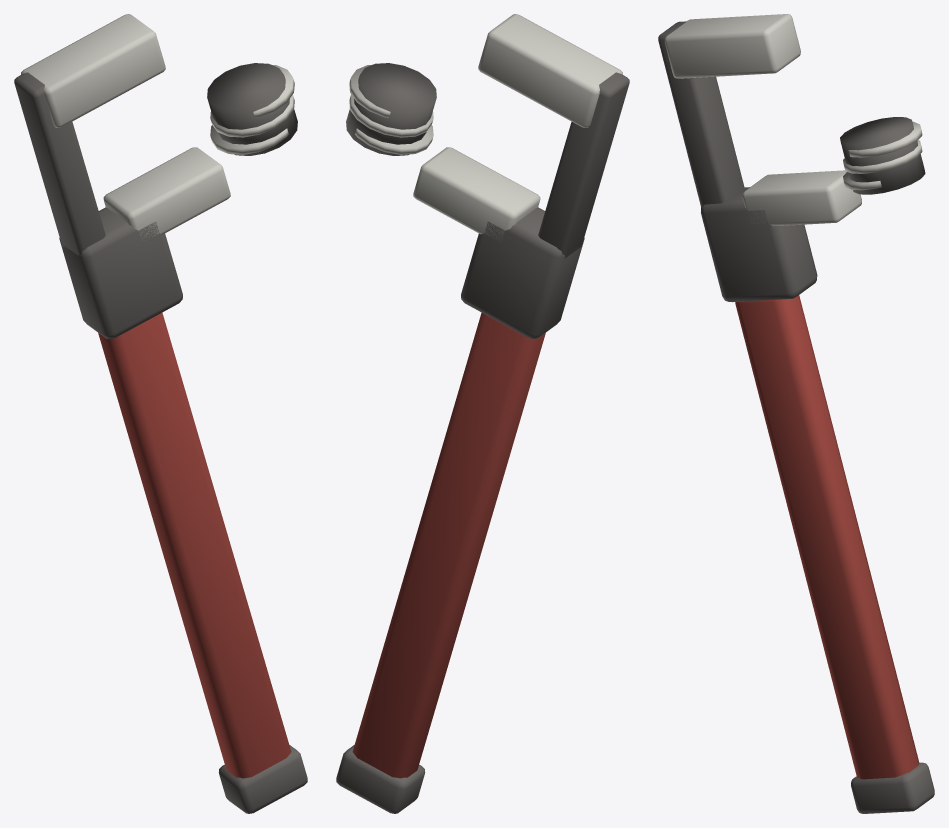
The model's file is wrench.glb.
3 views of the same model, side by side, from view 1: azimuth 30°, elevation 25°; view 2: azimuth 150°, elevation 25°; view 3: azimuth 330°, elevation 25° (orthographic). The views are drawn at different scales.
Parts seen in each view (by area): view 1: handle, head, hook, shank, heel, nut, end, knurl, knurl.001, knurl.002; view 2: handle, head, hook, shank, heel, nut, end, knurl, knurl.001, knurl.002; view 3: handle, head, hook, shank, heel, nut, end, knurl.002, knurl.001.
Boxes of the visible parts, box(x1,y1,x2,y2) form: handle: box(98, 312, 291, 778); head: box(59, 207, 182, 338); hook: box(21, 14, 165, 127); shank: box(14, 72, 105, 255); heel: box(103, 147, 230, 240); nut: box(207, 63, 297, 155); end: box(218, 745, 307, 813); knurl: box(210, 125, 288, 154); knurl.001: box(210, 94, 294, 137); knurl.002: box(253, 64, 294, 117); handle: box(352, 312, 545, 778); head: box(461, 207, 584, 338); hook: box(478, 14, 622, 127); shank: box(538, 72, 629, 258); heel: box(413, 147, 540, 241); nut: box(346, 63, 436, 155); end: box(336, 745, 425, 813); knurl: box(355, 125, 433, 154); knurl.001: box(349, 94, 433, 137); knurl.002: box(349, 64, 390, 117); handle: box(735, 295, 919, 779); head: box(701, 187, 817, 302); hook: box(664, 14, 800, 78); shank: box(658, 21, 744, 206); heel: box(742, 170, 861, 226); nut: box(840, 117, 925, 194); end: box(851, 762, 934, 813); knurl.002: box(848, 121, 922, 157); knurl.001: box(843, 140, 922, 173).
Size of the model in its own units: 0.1659 by 0.4667 by 0.045.
